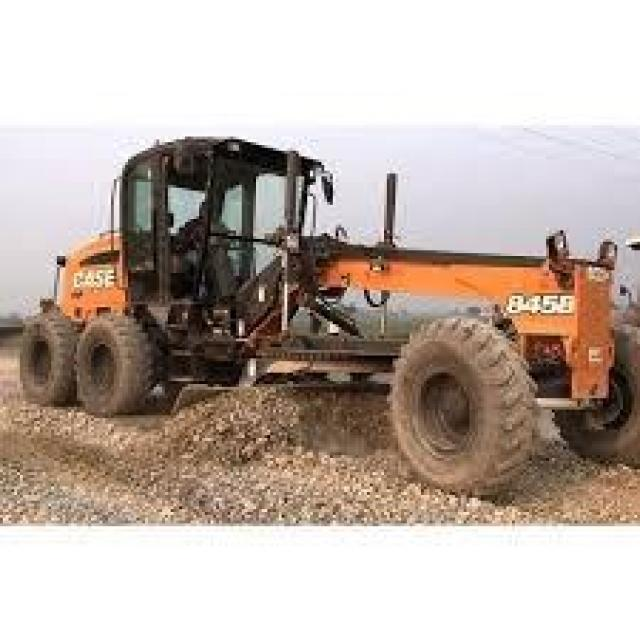Grader: (14, 114, 637, 509)
